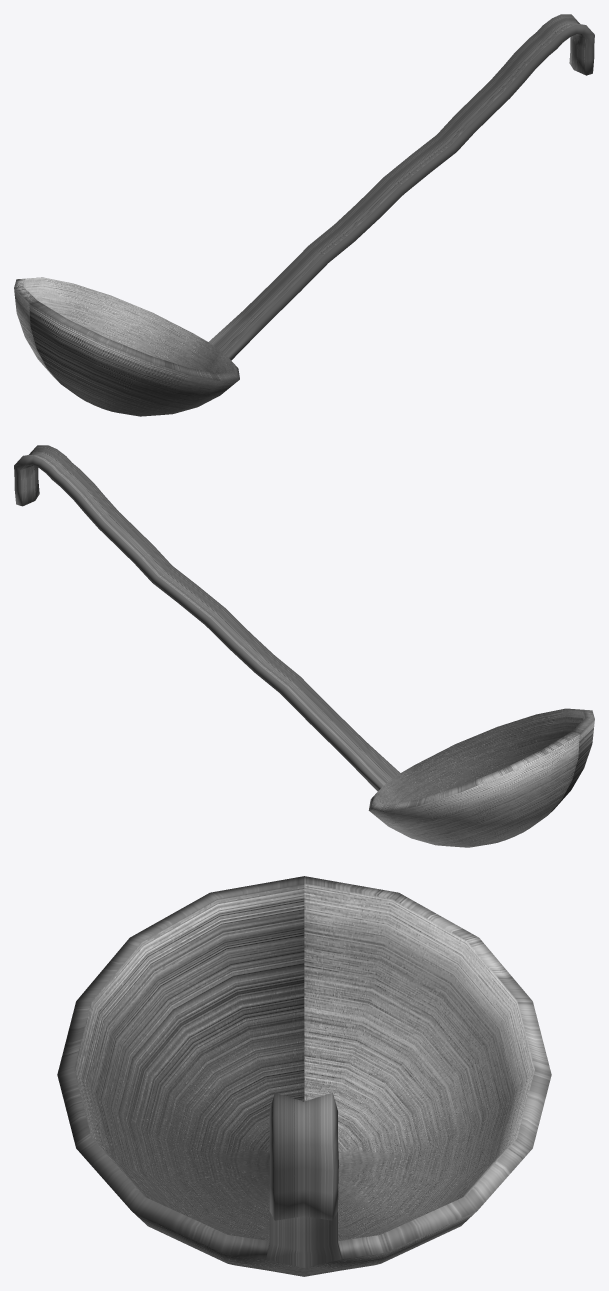
File: soeplepel.glb
The picture shows the model from 3 angles, top to bottom: view 1: azimuth 30°, elevation 25°; view 2: azimuth 150°, elevation 25°; view 3: azimuth 270°, elevation 25°; orthographic projection. The views are drawn at different scales.
Visible parts, largest first — view 1: Sphere; view 2: Sphere; view 3: Sphere.
Part boxes in pixels (box(x1,y1,x2,y2)): Sphere: box(14, 14, 594, 416); Sphere: box(14, 445, 594, 847); Sphere: box(57, 876, 551, 1276).
Bounding box in the file's own units: 4.82 × 2.33 × 1.85.
Materials: 1 (1 with a texture image).
